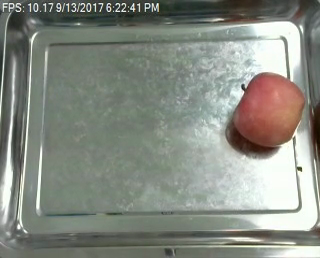Apple: (231, 70, 305, 153)
